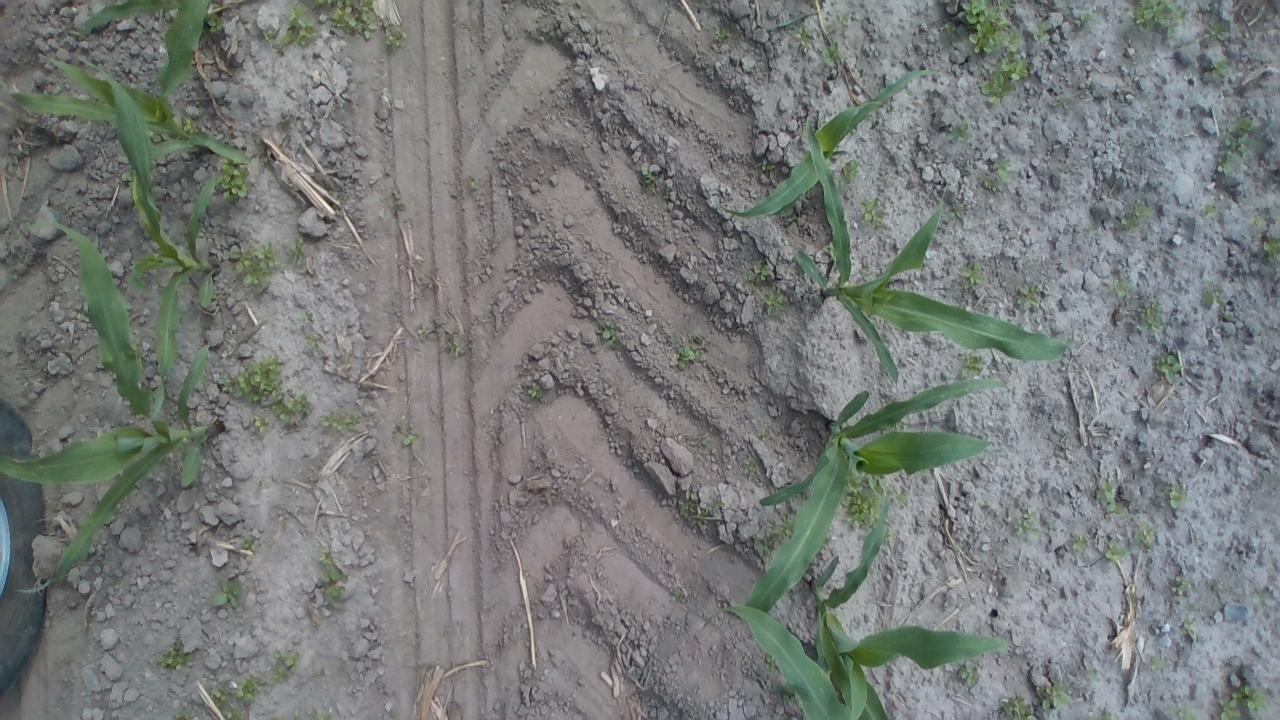Maize: (4, 218, 218, 594), (792, 112, 1072, 382), (743, 374, 1009, 616), (9, 0, 250, 232), (80, 55, 230, 422), (806, 509, 1010, 720), (720, 68, 941, 218), (704, 604, 854, 720)
Weeds: (217, 353, 312, 425), (960, 0, 1020, 57), (981, 50, 1034, 104), (230, 240, 282, 292), (1216, 114, 1258, 176), (314, 0, 376, 40), (846, 470, 886, 530), (319, 549, 354, 611), (1128, 0, 1186, 37), (752, 510, 794, 560), (1216, 685, 1264, 720), (280, 6, 318, 48), (217, 158, 251, 204), (679, 493, 724, 523), (204, 686, 243, 720), (270, 647, 302, 685), (750, 285, 789, 316), (1095, 479, 1128, 515), (318, 414, 368, 436), (209, 578, 242, 610), (1121, 200, 1153, 231), (679, 334, 704, 371), (1039, 682, 1072, 710), (982, 159, 1009, 193), (158, 644, 192, 670), (1002, 695, 1037, 720), (1155, 352, 1182, 384), (860, 197, 886, 228), (961, 256, 985, 289), (234, 676, 263, 703), (1138, 301, 1163, 332), (1015, 510, 1042, 538), (942, 119, 972, 142), (840, 158, 864, 186), (1016, 285, 1042, 309), (960, 352, 983, 378), (742, 261, 768, 284), (958, 658, 977, 689), (822, 38, 843, 65), (599, 325, 621, 348), (1262, 236, 1280, 262), (288, 238, 306, 264), (1105, 278, 1127, 299), (795, 25, 815, 48), (208, 6, 224, 34), (640, 165, 656, 192), (1204, 286, 1225, 306), (1032, 22, 1052, 42), (1172, 576, 1192, 596), (1104, 543, 1126, 561), (1136, 526, 1154, 548), (780, 681, 796, 705), (1168, 485, 1184, 509), (1211, 62, 1232, 80), (1208, 21, 1229, 39), (240, 533, 258, 552), (1071, 534, 1089, 553), (303, 336, 320, 356), (947, 203, 964, 223), (384, 31, 402, 49), (249, 415, 268, 432), (182, 116, 202, 132), (823, 240, 837, 262), (528, 384, 546, 401), (174, 706, 194, 720), (942, 22, 959, 38), (392, 192, 408, 209), (1178, 705, 1196, 720), (764, 654, 779, 672), (1248, 214, 1266, 229), (260, 30, 276, 46), (835, 15, 849, 33), (784, 204, 797, 223), (713, 29, 730, 43), (309, 709, 330, 720), (1150, 657, 1166, 671), (400, 431, 417, 444), (122, 170, 134, 188), (1078, 14, 1096, 26), (893, 492, 909, 505), (448, 345, 465, 357), (296, 312, 313, 324), (890, 420, 904, 434), (881, 531, 896, 544), (761, 159, 776, 171), (670, 590, 685, 601), (259, 156, 272, 168), (746, 463, 760, 474), (1182, 619, 1192, 633), (1088, 222, 1098, 236), (702, 439, 712, 450), (1204, 207, 1216, 216), (864, 271, 874, 281), (759, 430, 769, 440), (1102, 713, 1112, 720)
